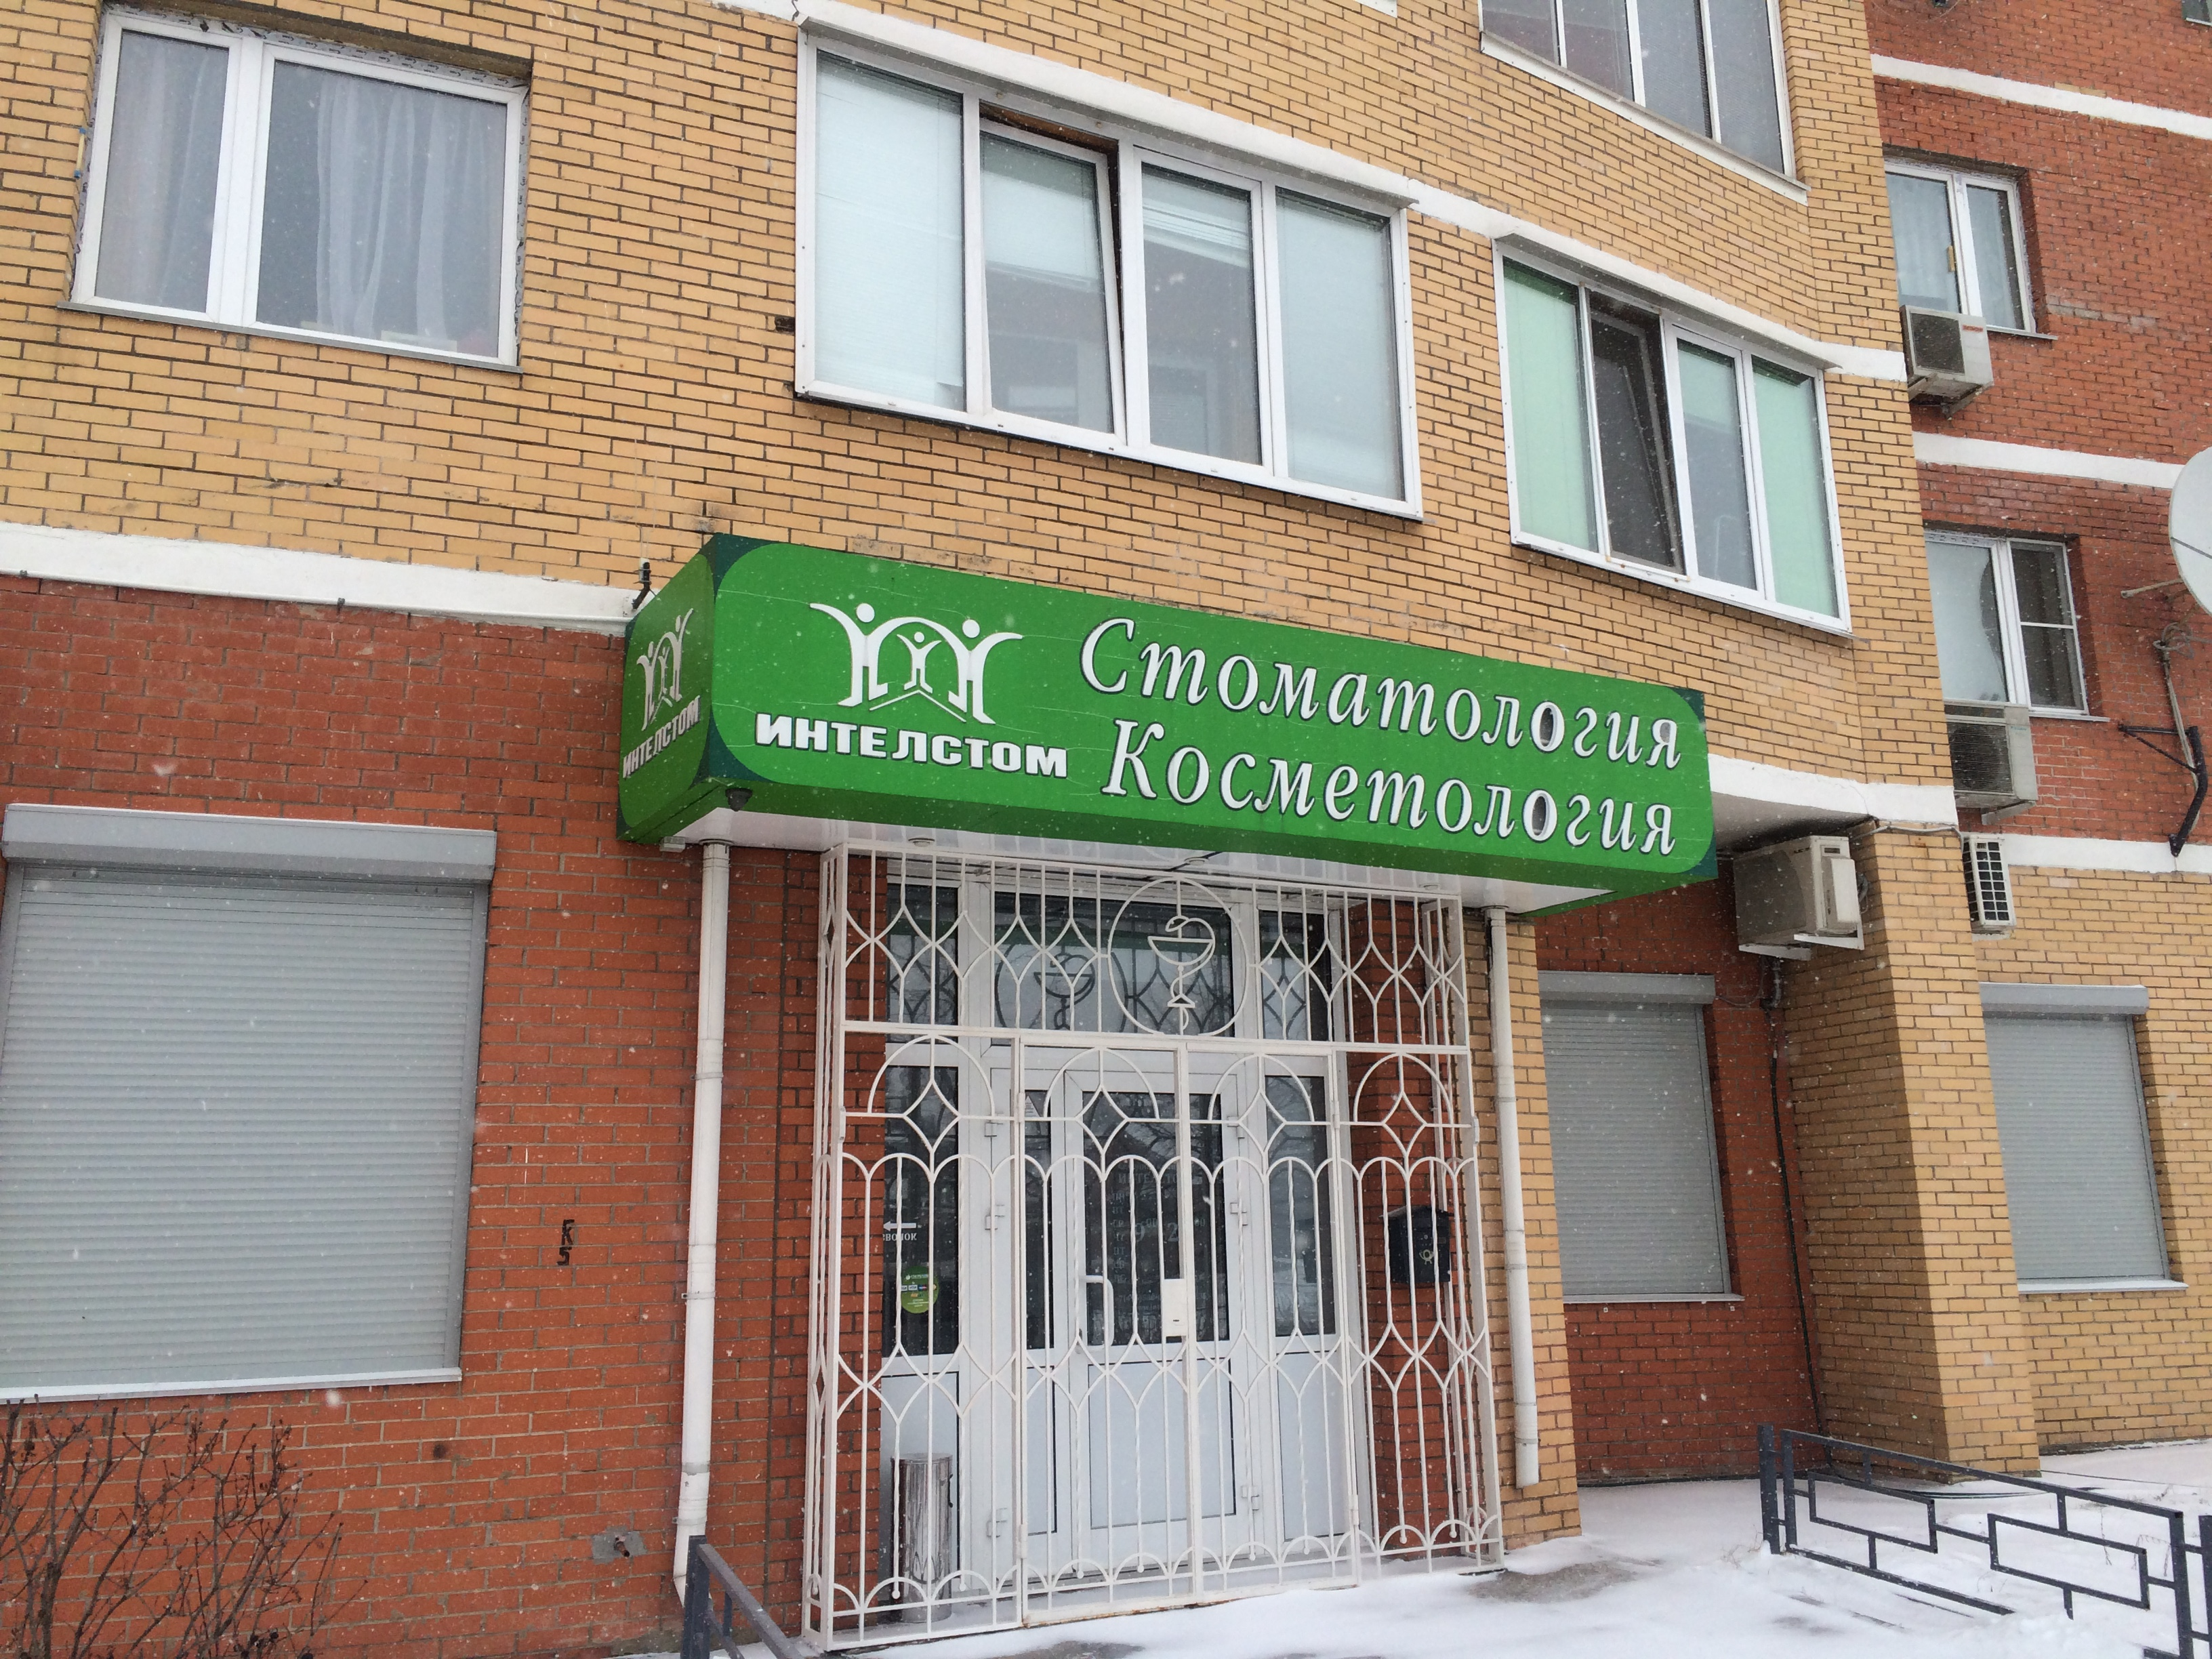signboard: (611, 535, 1723, 915)
window: (759, 58, 1439, 525), (0, 877, 503, 1399), (64, 40, 524, 375), (1484, 232, 1858, 631), (1562, 979, 1735, 1328)
